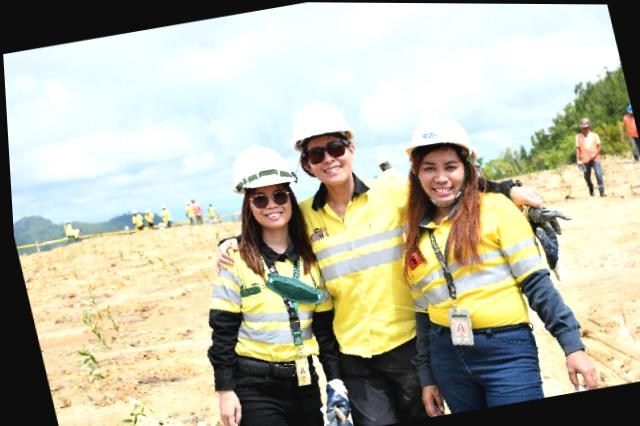helmet: (218, 138, 312, 191), (277, 97, 362, 148), (402, 115, 468, 154)
vest: (290, 177, 431, 361), (388, 186, 546, 341), (200, 235, 325, 378)
